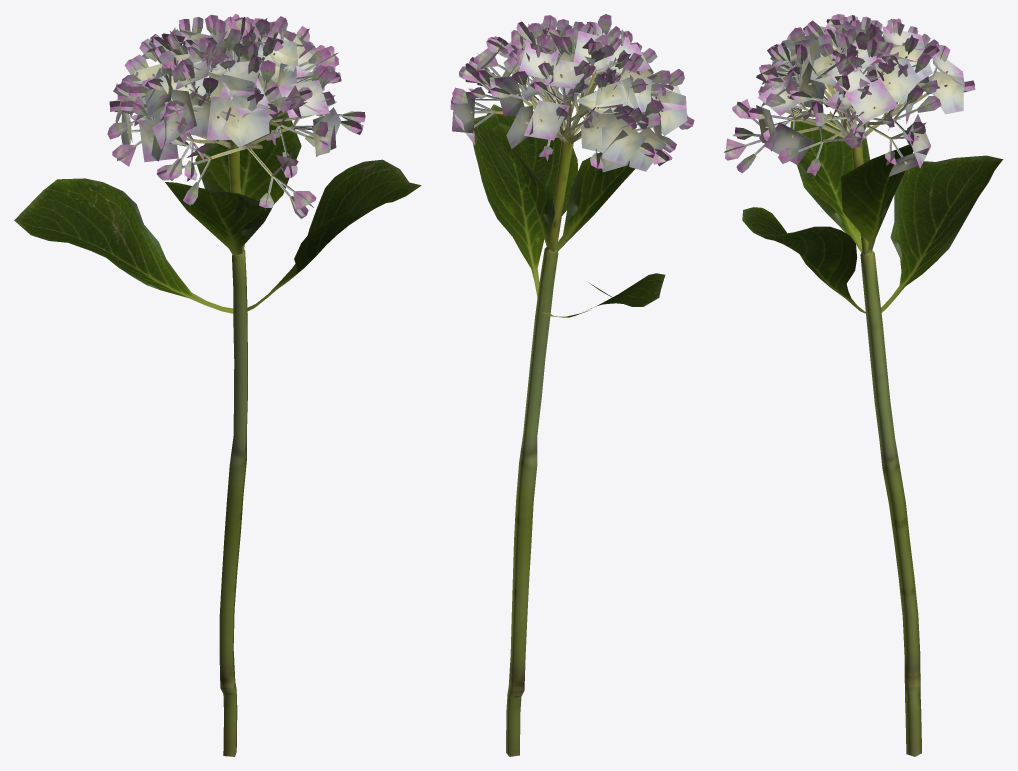
The model's file is Hydrangea_baby_short_pink.glb.
3 views of the same model, side by side, from view 1: azimuth 30°, elevation 25°; view 2: azimuth 150°, elevation 25°; view 3: azimuth 270°, elevation 25° (orthographic). The views are drawn at different scales.
Visible parts, largest first — view 1: BABY; view 2: BABY; view 3: BABY.
Part boxes in pixels (x1,y1,x2,y2): BABY: (14,14,421,756); BABY: (450,14,694,756); BABY: (724,14,1003,756).
Size of the model in its own units: 0.7928 by 2.03 by 0.7195.
1 material, 1 textured.
